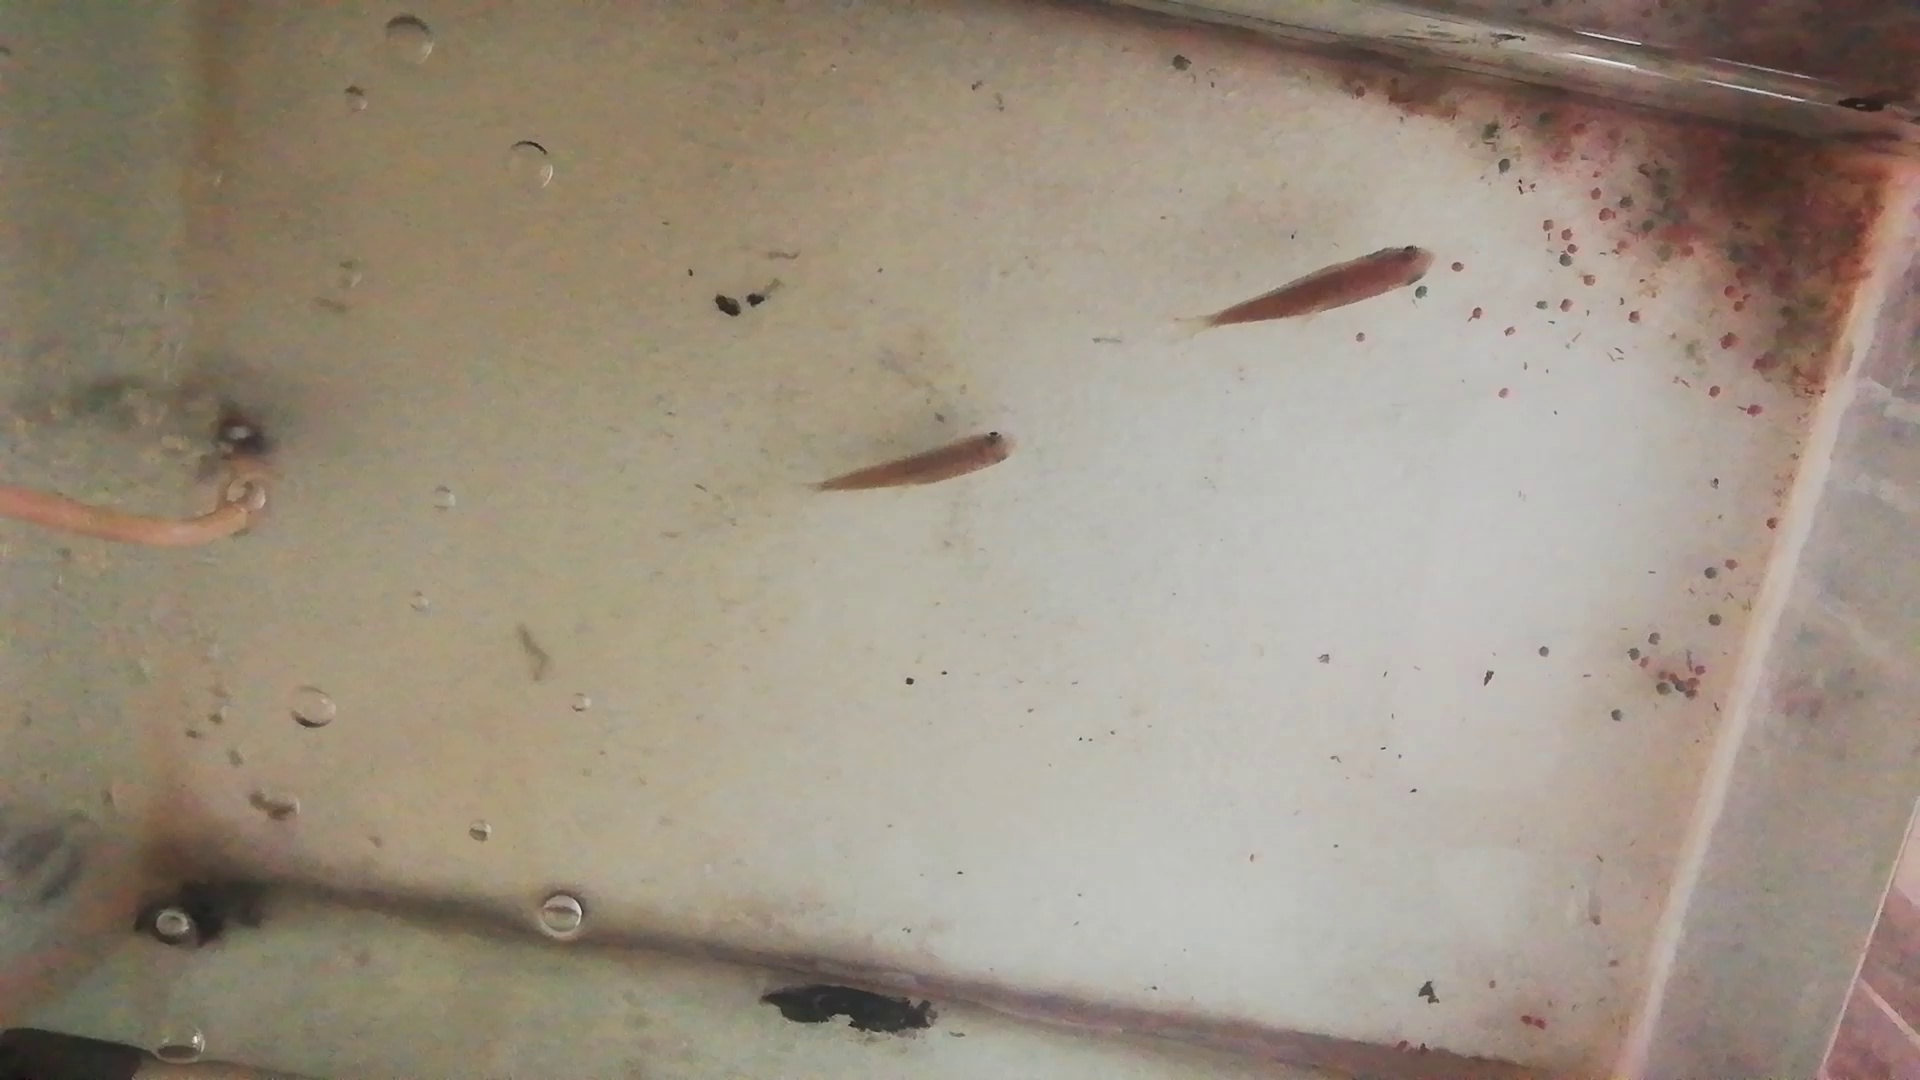fish: (1207, 245, 1445, 327), (804, 429, 1026, 498)
